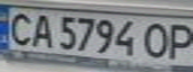4: (112, 17, 142, 56)
5: (54, 12, 78, 51)
7: (72, 15, 96, 52)
9: (90, 16, 118, 55)
A: (27, 11, 57, 48)
C: (3, 10, 36, 46)
O: (139, 20, 175, 60)
P: (163, 20, 193, 61)
